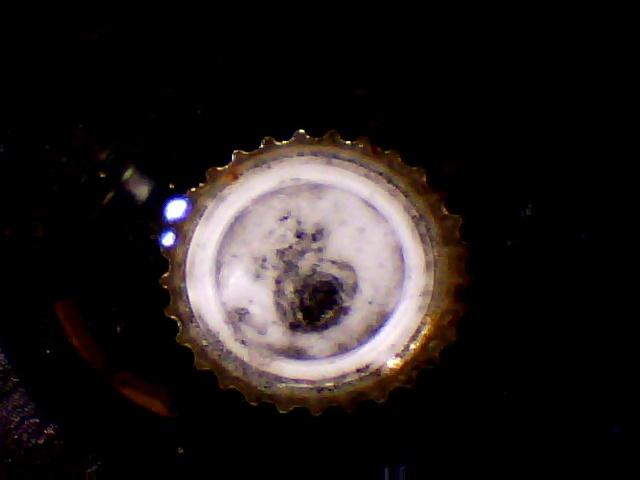capsule: (126, 122, 486, 426)
